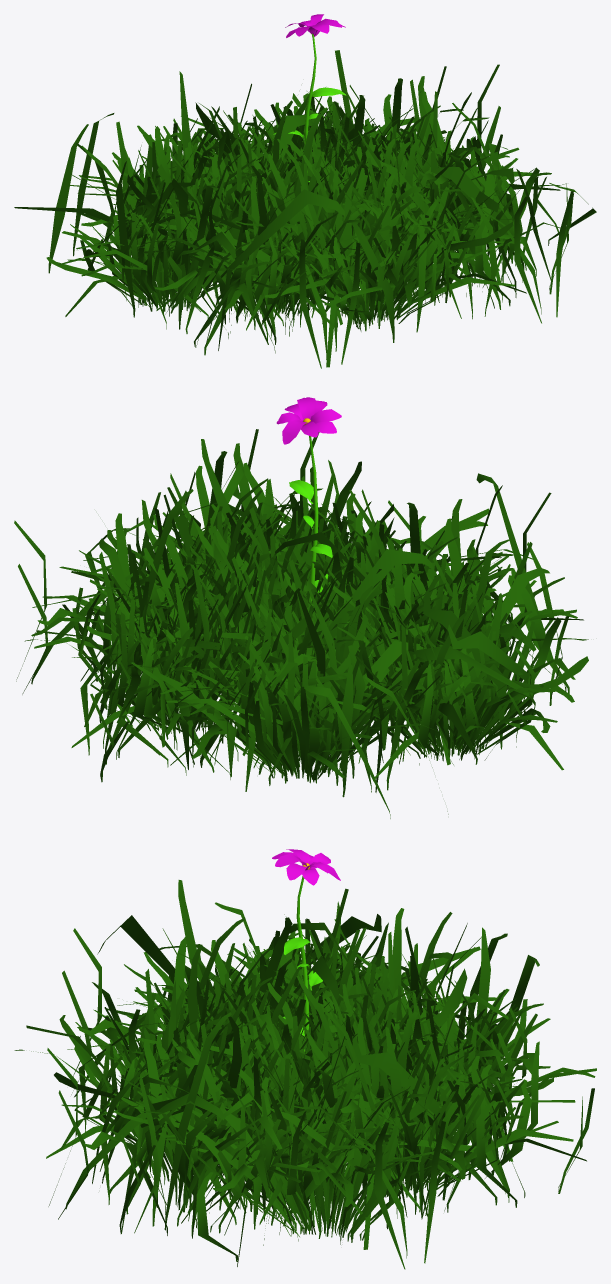
File: Player_test7.fbx
3 renders of one model, top to bottom at view 1: azimuth 30°, elevation 25°; view 2: azimuth 150°, elevation 25°; view 3: azimuth 270°, elevation 25°, orthographic. The views are drawn at different scales.
Parts seen in each view (by area): view 1: Player; view 2: Player; view 3: Player.
Boxes of the visible parts, left/top/right/bottom form: Player: left=14, top=14, right=596, bottom=368; Player: left=14, top=397, right=588, bottom=818; Player: left=14, top=849, right=596, bottom=1269.
Bounding box in the file's own units: 171 × 91.01 × 159.
